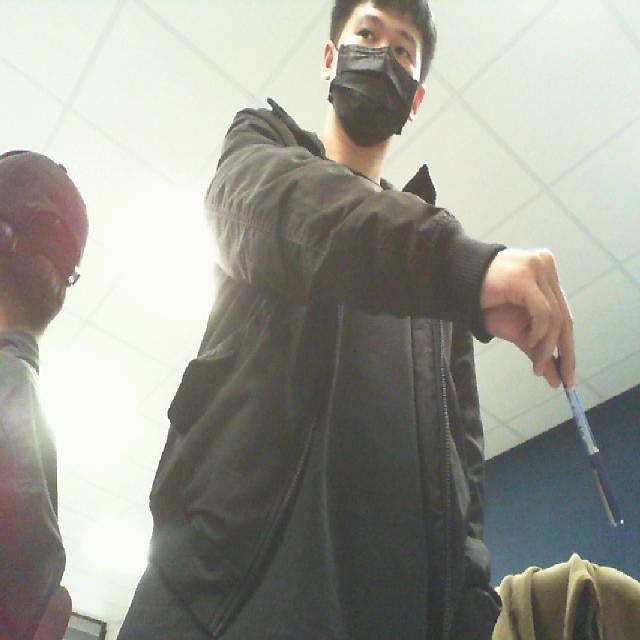Pen: (544, 346, 638, 547)
